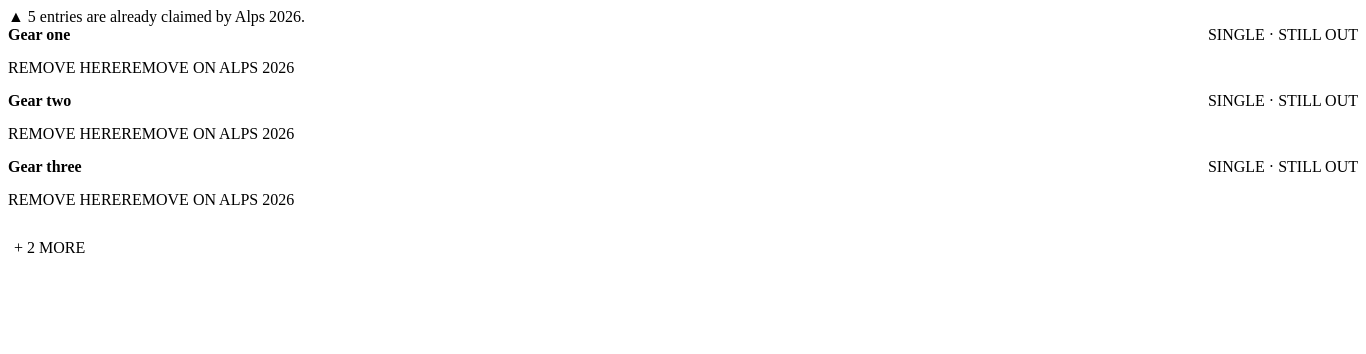
the row cap › expands in place when + N MORE is clicked
This screenshot has width=1366, height=354.
Click the button with test id "over-claim-more".
click(50, 248)  # box [8, 224, 91, 272]
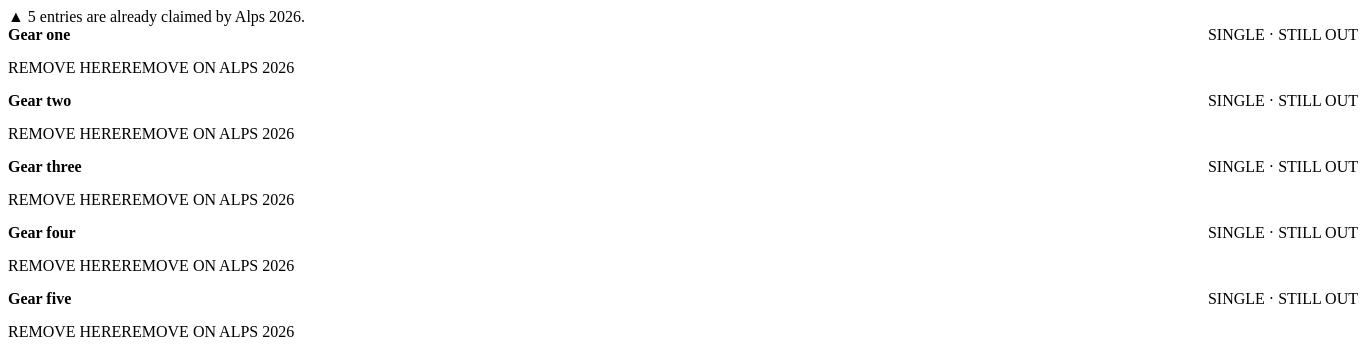
Expected: the button with test id "over-claim-more" is gone
